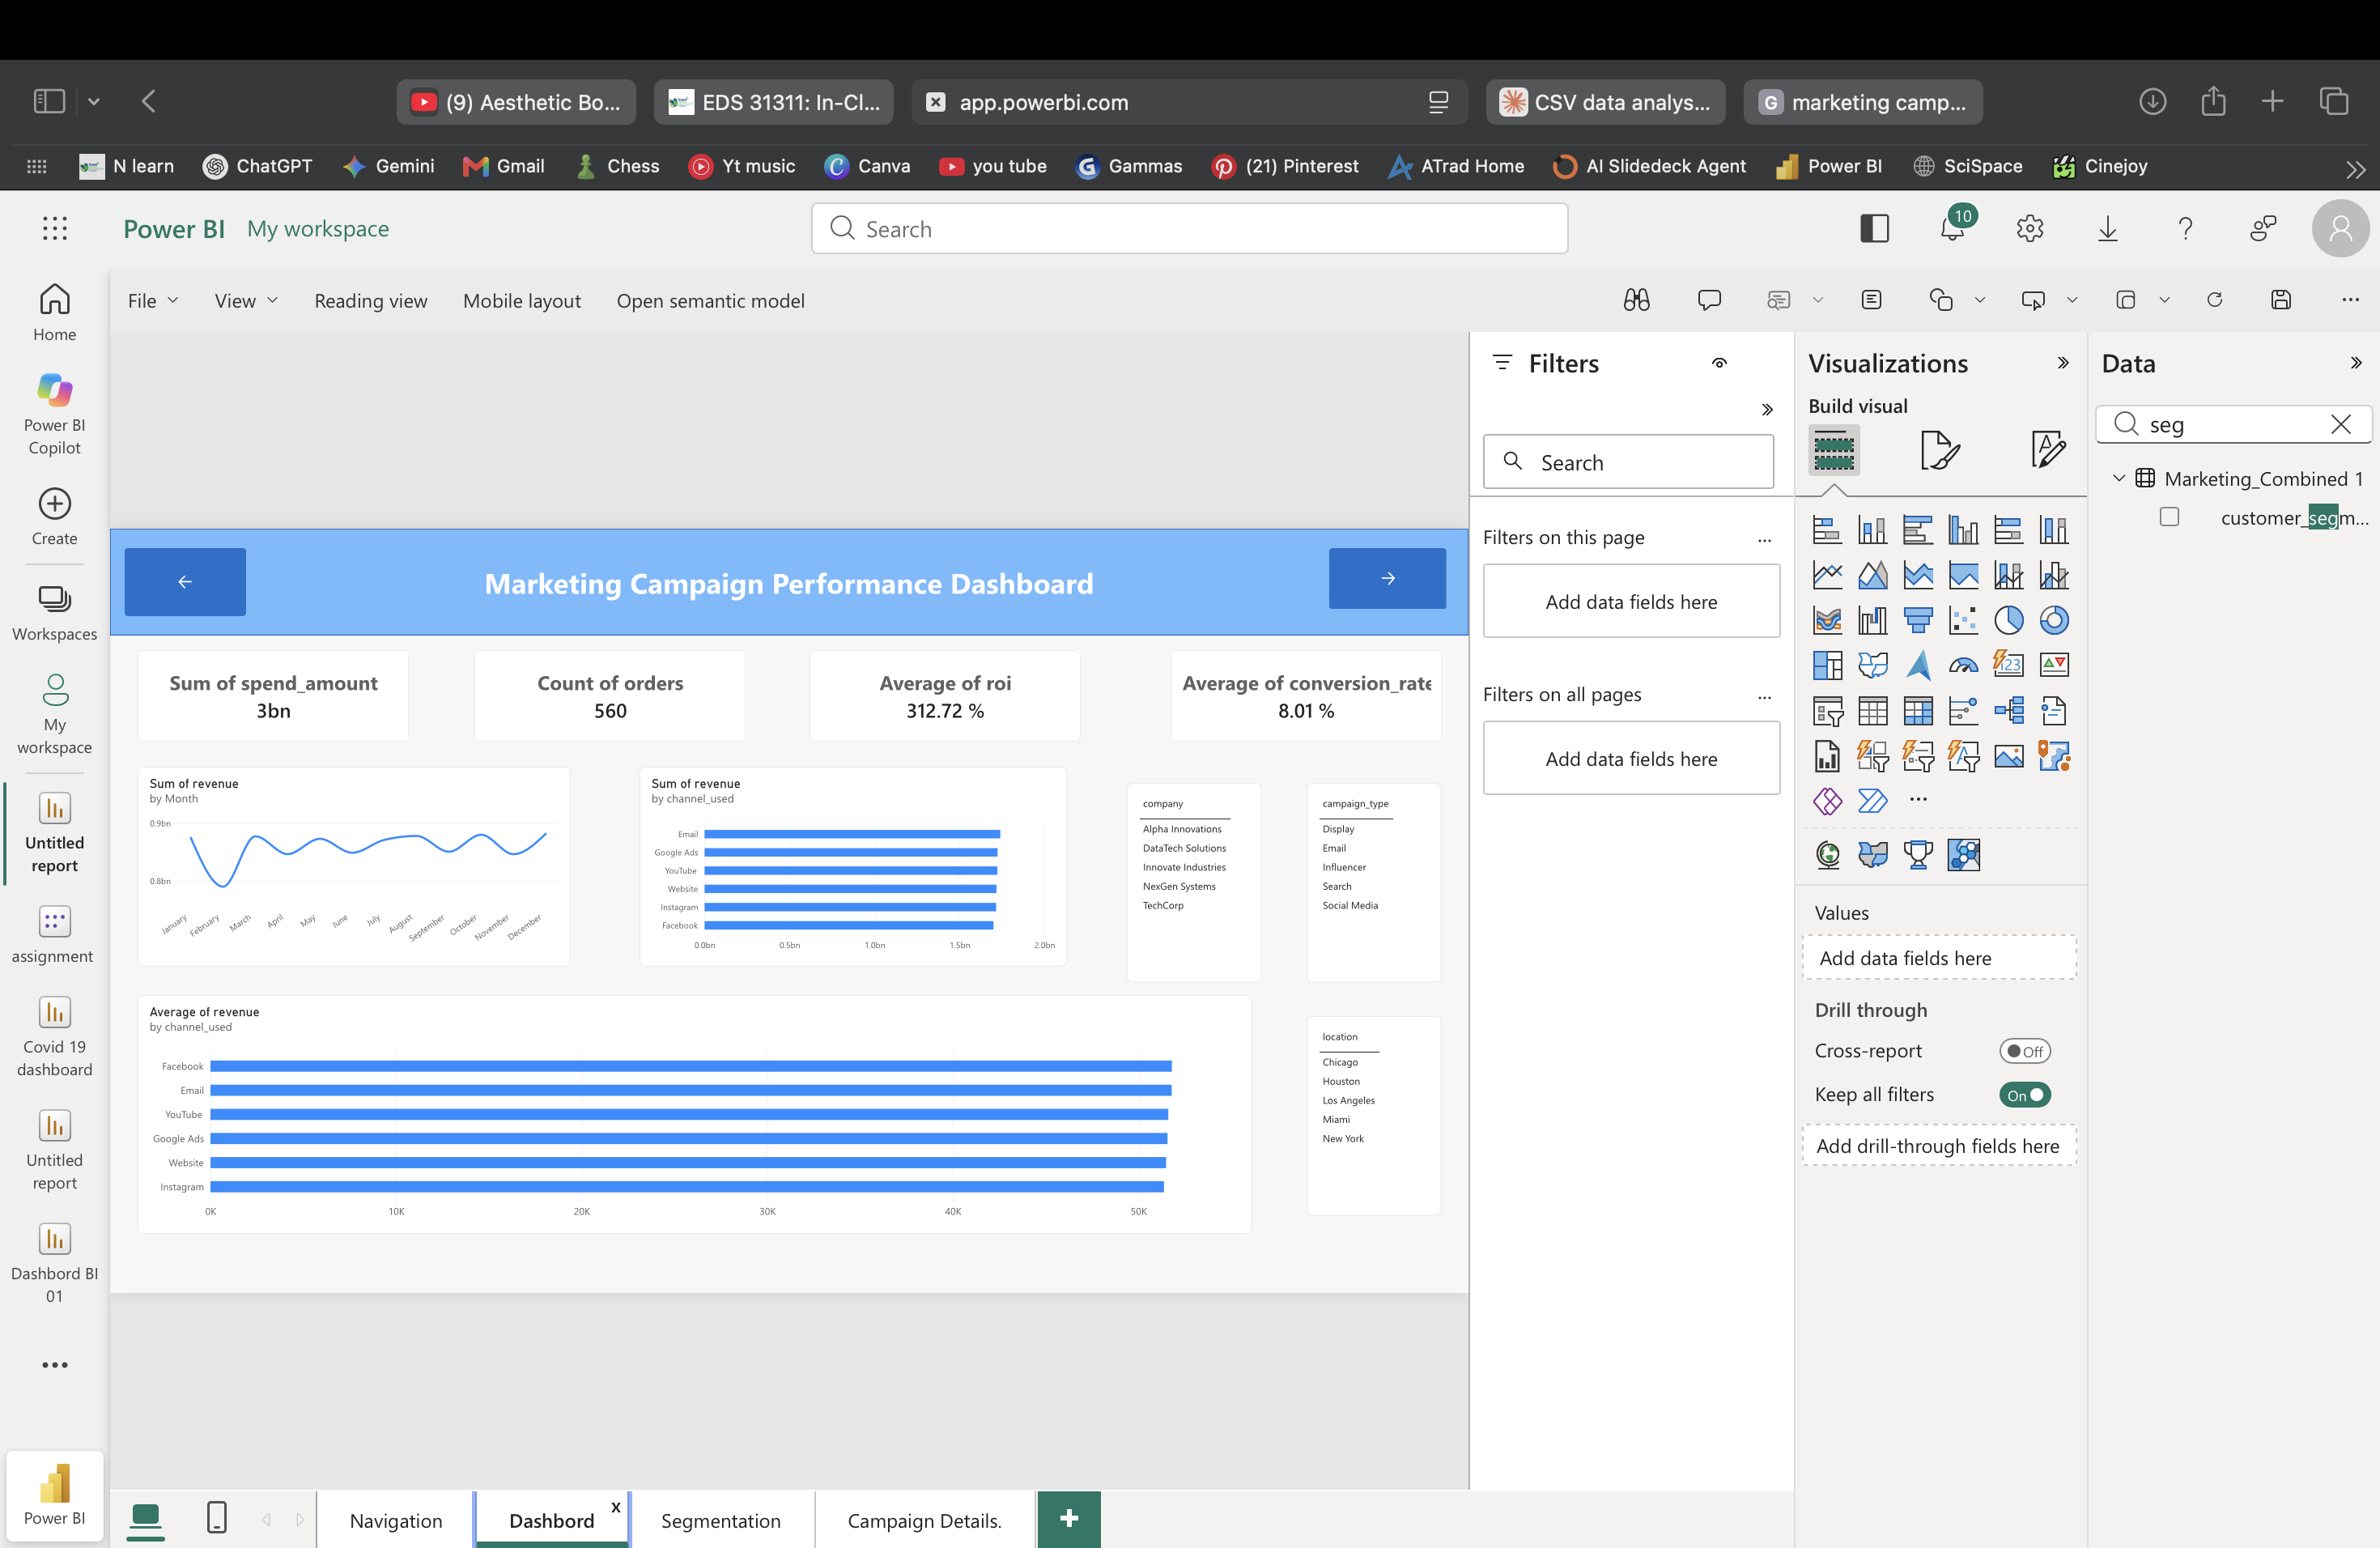

The page's visual inventory and layout, read from the dashboard file:
{"tool":"powerbi","page":{"name":"Dashbord","canvas":[1920,1080],"ordinal":2},"visuals":[{"type":"cardVisual","fields":{"Data":["Sum(Marketing_Combined 1.spend_amount)"]},"box":[40,171.6,383.2,129.7],"z":0},{"type":"cardVisual","fields":{"Data":["Count(Marketing_Combined 1.orders)"]},"box":[514.8,171.6,383.2,129.7],"z":1000},{"type":"cardVisual","fields":{"Data":["Avg(Marketing_Combined 1.roi)"]},"box":[989.6,171.6,383.2,129.7],"z":2000},{"type":"cardVisual","fields":{"Data":["Avg(Marketing_Combined 1.conversion_rate)"]},"box":[1498.6,171.6,383.2,129.7],"z":3000},{"type":"lineChart","fields":{"Category":["Marketing_Combined 1.date.Variation.Date Hierarchy.Month"],"Y":["Sum(Marketing_Combined 1.revenue)"]},"box":[40,337.5,612,282.2],"z":4000},{"type":"clusteredBarChart","fields":{"Category":["Marketing_Combined 1.channel_used"],"Y":["Sum(Marketing_Combined 1.revenue)"]},"box":[747.4,337.5,604.4,282.2],"z":5000},{"type":"tableEx","fields":{"Values":["Marketing_Combined 1.campaign_type"]},"box":[1691.2,358.5,190.7,282.2],"z":6000},{"type":"tableEx","fields":{"Values":["Marketing_Combined 1.company"]},"box":[1437.6,358.5,190.7,282.2],"z":7000},{"type":"tableEx","fields":{"Values":["Marketing_Combined 1.location"]},"box":[1691.2,688.3,190.7,282.2],"z":8000},{"type":"clusteredBarChart","fields":{"Category":["Marketing_Combined 1.channel_used"],"Y":["Avg(Marketing_Combined 1.revenue)"]},"box":[40,659.7,1574.9,337.5],"z":9000},{"type":"shape","box":[0,0,1920,150.6],"z":10000},{"type":"actionButton","box":[1722.6,27.2,165.7,86.2],"z":10001},{"type":"actionButton","box":[20.6,27.5,171.6,96.1],"z":10002}]}

Visuals, with their boxes on the page's 1920x1080 design canvas (x1, y1, x2, y2). These are canvas units, not pixel positions in the 2380x1548 screenshot, which may show the page scaled, cropped or inside an application window:
cardVisual - Sum(Marketing_Combined 1.spend_amount): Rect(40, 172, 423, 301)
cardVisual - Count(Marketing_Combined 1.orders): Rect(515, 172, 898, 301)
cardVisual - Avg(Marketing_Combined 1.roi): Rect(990, 172, 1373, 301)
cardVisual - Avg(Marketing_Combined 1.conversion_rate): Rect(1499, 172, 1882, 301)
lineChart - Marketing_Combined 1.date.Variation.Date Hierarchy.Month x Sum(Marketing_Combined 1.revenue): Rect(40, 338, 652, 620)
clusteredBarChart - Marketing_Combined 1.channel_used x Sum(Marketing_Combined 1.revenue): Rect(747, 338, 1352, 620)
tableEx - Marketing_Combined 1.campaign_type: Rect(1691, 358, 1882, 641)
tableEx - Marketing_Combined 1.company: Rect(1438, 358, 1628, 641)
tableEx - Marketing_Combined 1.location: Rect(1691, 688, 1882, 970)
clusteredBarChart - Marketing_Combined 1.channel_used x Avg(Marketing_Combined 1.revenue): Rect(40, 660, 1615, 997)
shape: Rect(0, 0, 1920, 151)
actionButton: Rect(1723, 27, 1888, 113)
actionButton: Rect(21, 28, 192, 124)
